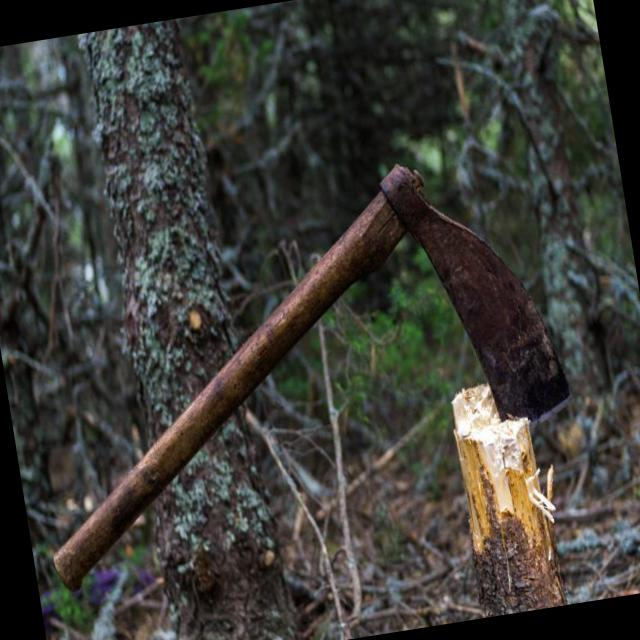Axe: (56, 165, 570, 590)
